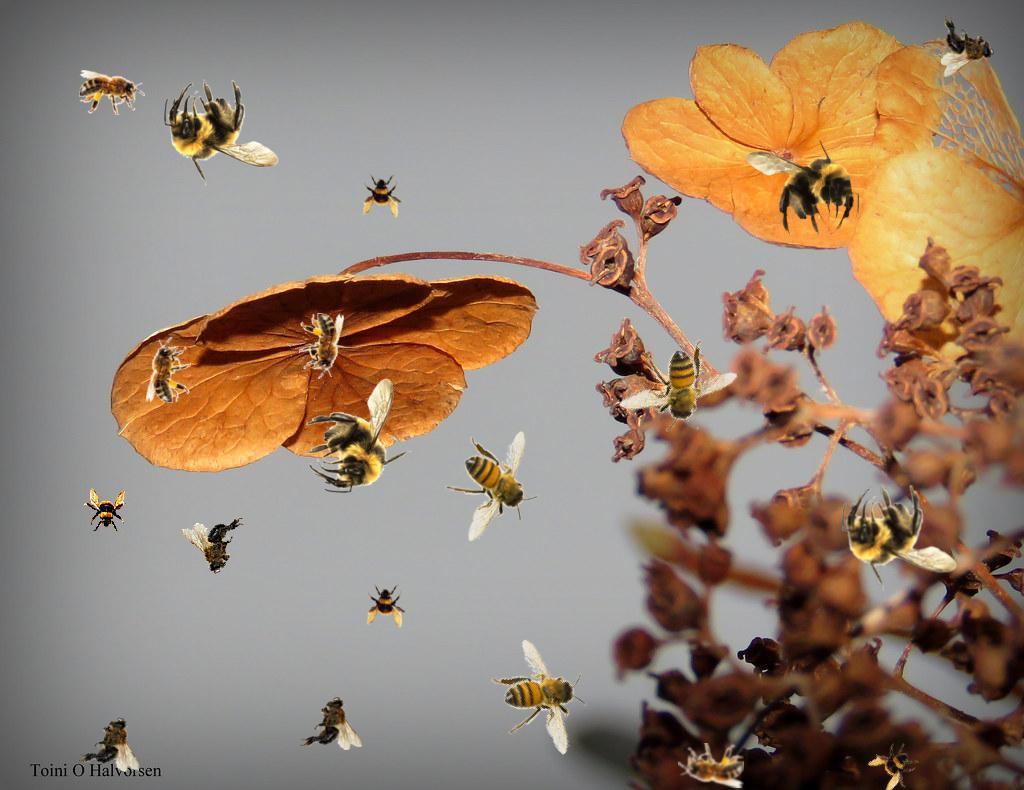Bee: (469, 627, 614, 773), (602, 315, 749, 459), (305, 378, 412, 493), (164, 79, 279, 186), (744, 132, 859, 239), (842, 484, 957, 591), (445, 431, 539, 542), (181, 513, 254, 579), (77, 712, 146, 774), (864, 736, 926, 790), (941, 15, 994, 77), (300, 697, 362, 750), (678, 743, 744, 788), (146, 337, 191, 403), (299, 313, 344, 379), (79, 70, 145, 115), (365, 584, 409, 628), (83, 488, 127, 532), (361, 174, 405, 218)
